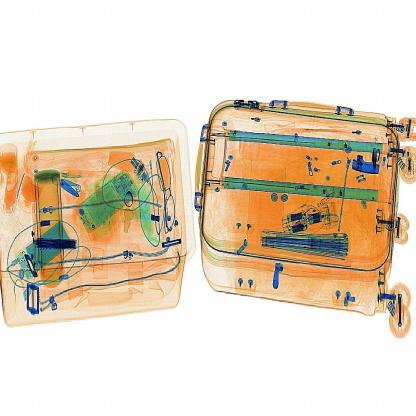scissors: (33, 227, 81, 260)
